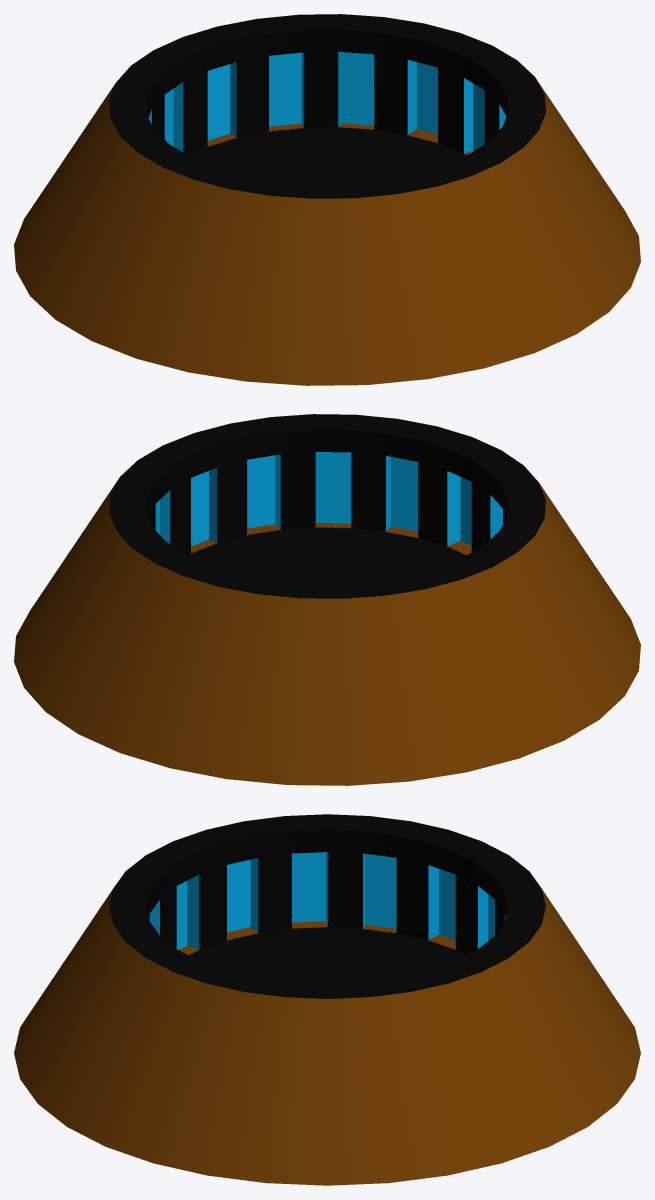
Rendered from bunker_exit.obj.
3 renders of one model, top to bottom at view 1: azimuth 30°, elevation 25°; view 2: azimuth 150°, elevation 25°; view 3: azimuth 270°, elevation 25°, orthographic.
Visible parts, largest first — view 1: Cylinder; view 2: Cylinder; view 3: Cylinder.
Part boxes in pixels (<box>): Cylinder: <box>14,14,640,385</box>; Cylinder: <box>14,414,640,785</box>; Cylinder: <box>14,814,640,1185</box>.
Size of the model in its own units: 122 by 31.52 by 122.
